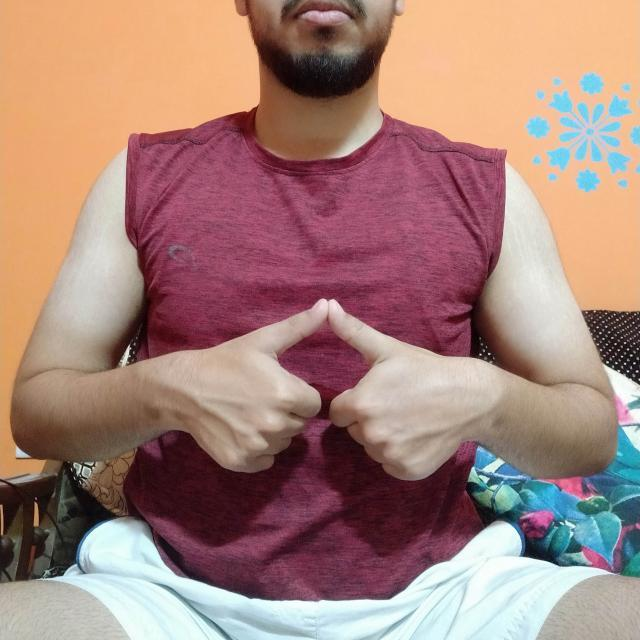A: (172, 295, 489, 484)
